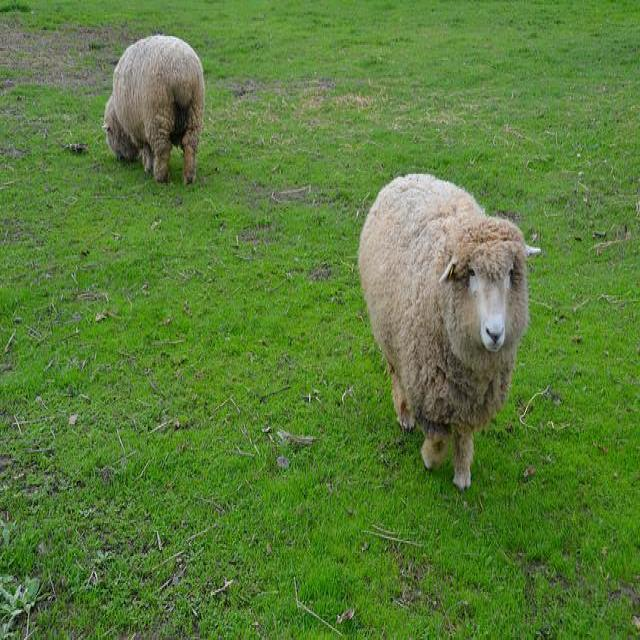Sheep: (358, 171, 540, 499), (101, 31, 208, 188)
